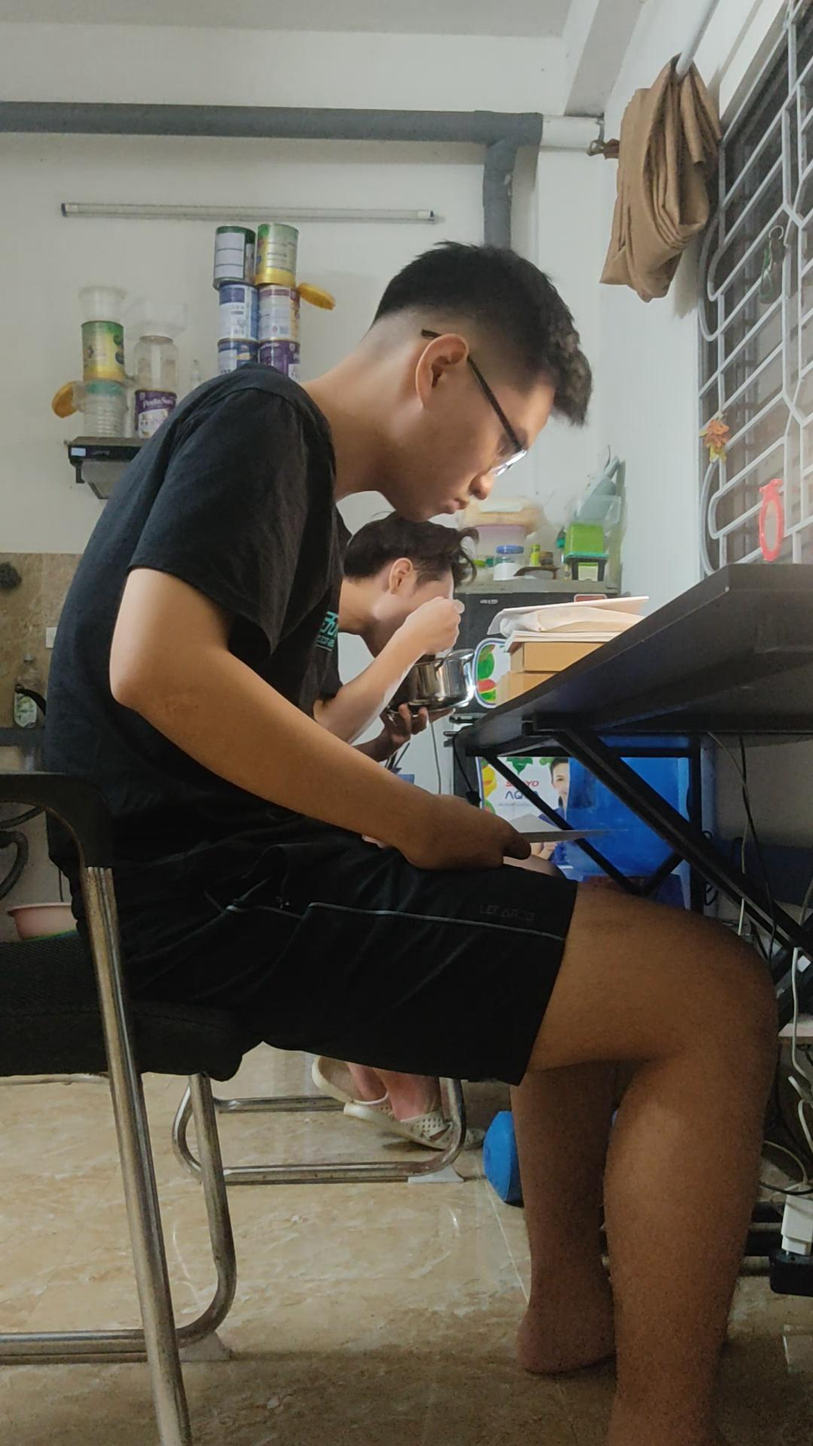BadPosture: (47, 244, 771, 1331)
